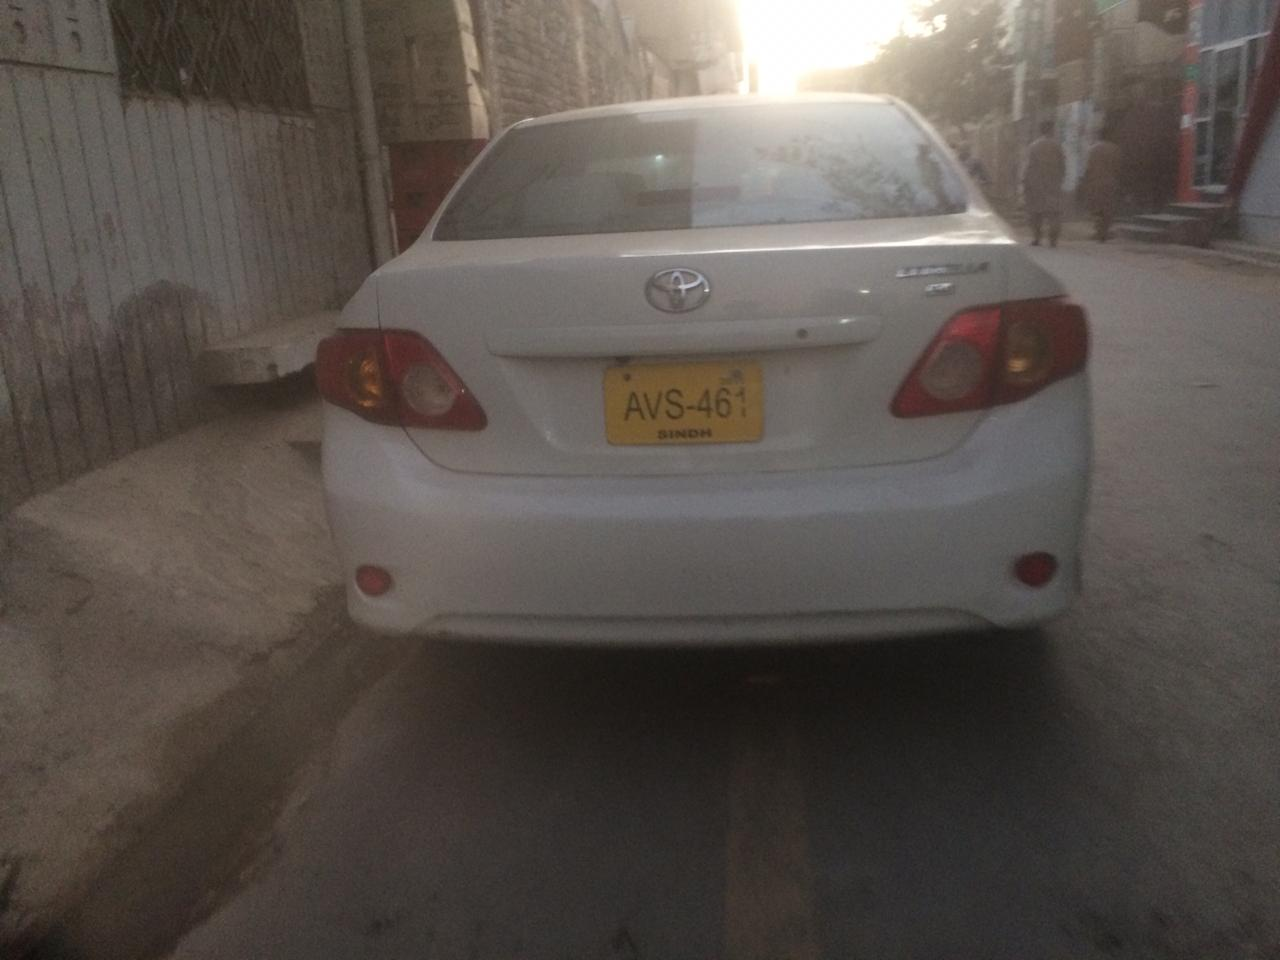license plate: (606, 364, 771, 447)
